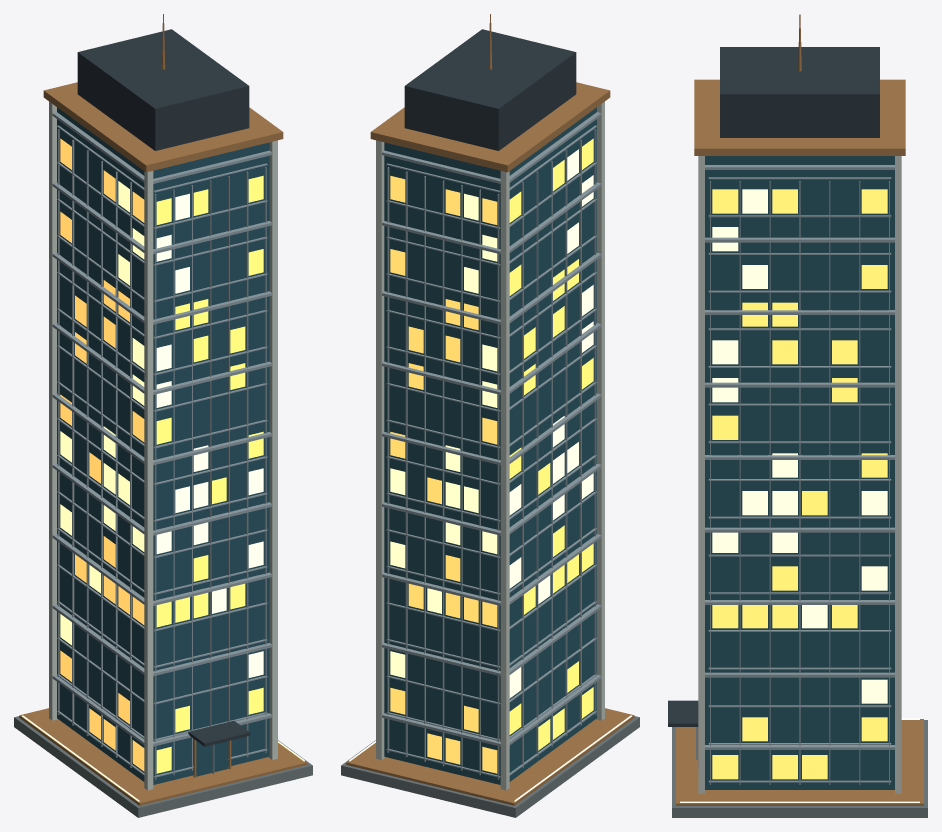
Rendered from data-tower-b.lod1.glb.
The picture shows the model from 3 angles, left to right: view 1: azimuth 30°, elevation 25°; view 2: azimuth 150°, elevation 25°; view 3: azimuth 270°, elevation 25°; orthographic projection. The views are drawn at different scales.
Visible parts, largest first — view 1: structure; view 2: structure; view 3: structure.
Part boxes in pixels (<box>): structure: <box>14,14,312,817</box>; structure: <box>341,14,639,817</box>; structure: <box>668,14,927,817</box>.
Size of the model in its own units: 13 by 52.4 by 16.25.
